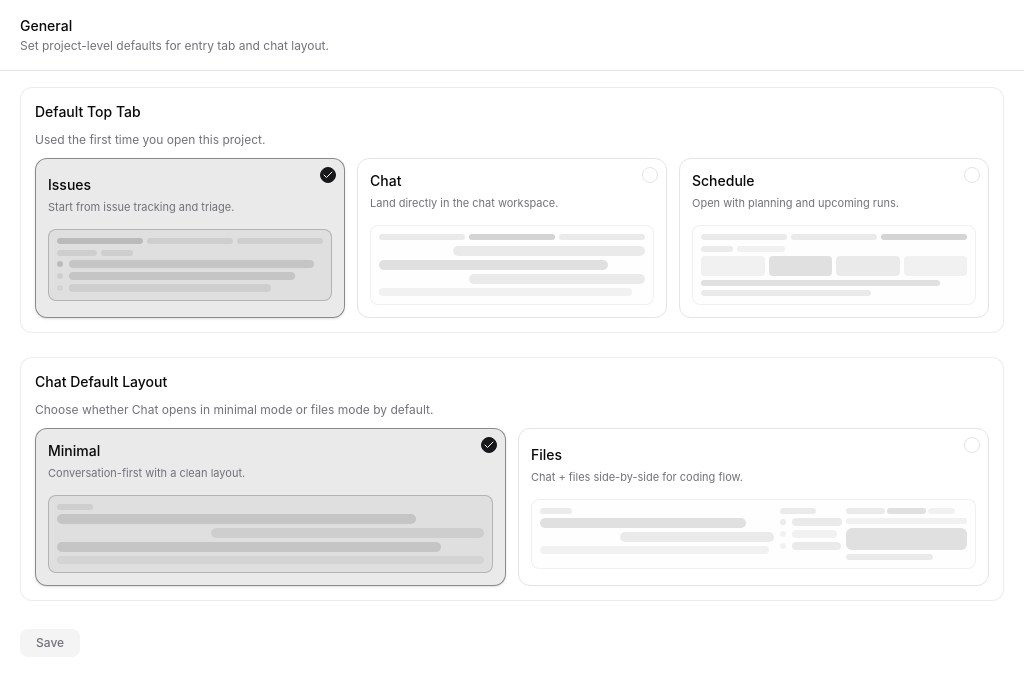
Test case: ProjectGeneralSettingsPanel › shows files layout section only when chat mode is files
Expected: the text "Files Default Layout" is not shown
Click the radio button labelled "Files". click: point(754, 507)
box: x1=518 y1=428 x2=989 y2=586
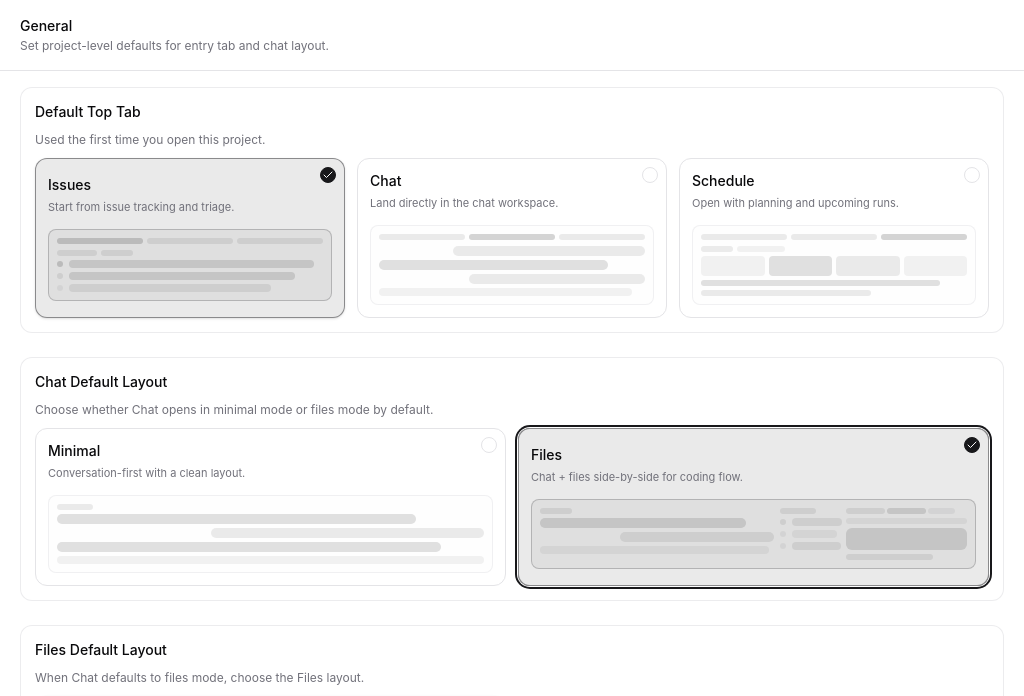
Expected: the heading "Files Default Layout" is shown, x1=35 y1=641 x2=167 y2=658
